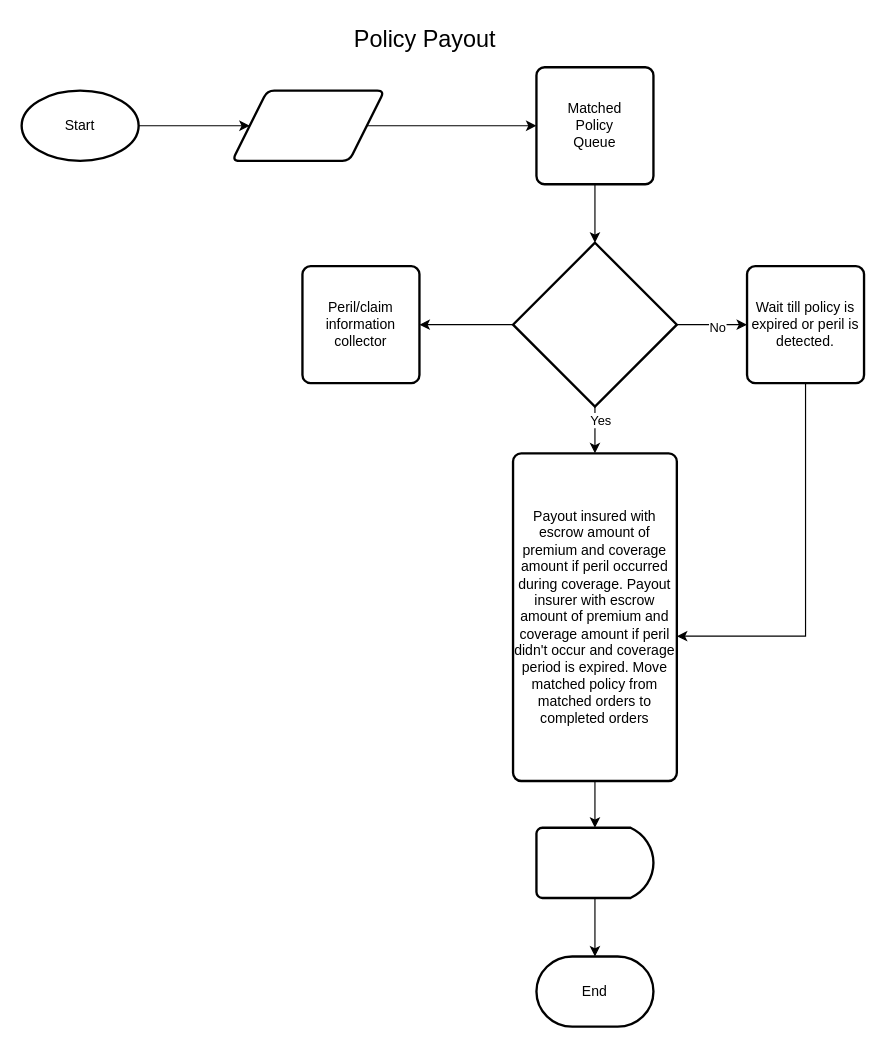
The diagram is 885 pixels wide and 1047 high, and some of its shapes have lost their labels. The shapes that lost their labels are listed below. From the top down, each one's box as (x1, y1, x2, y2) in pixels, then its label:
(230, 89, 385, 161): Matched Policy
(511, 241, 677, 407): Is policy expired or peril occurred
(535, 826, 654, 899): Validate payout
